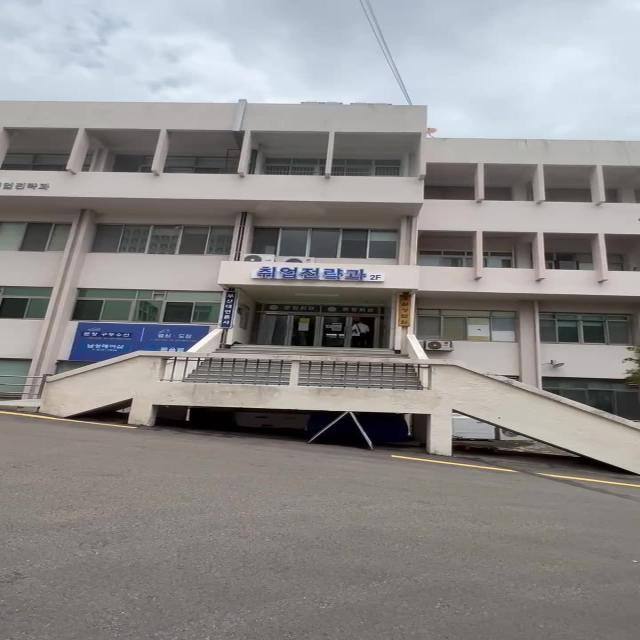building: (18, 97, 640, 448)
